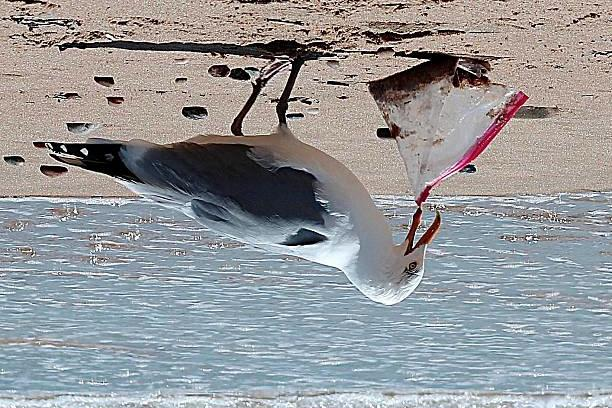Trash: (370, 57, 537, 199)
